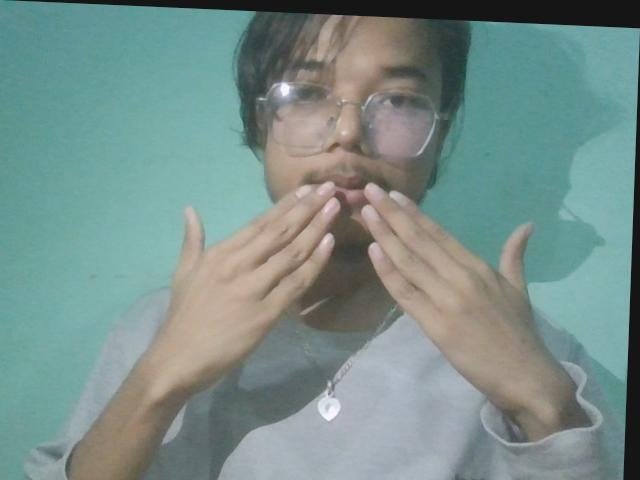Thank You: (124, 109, 607, 471)
